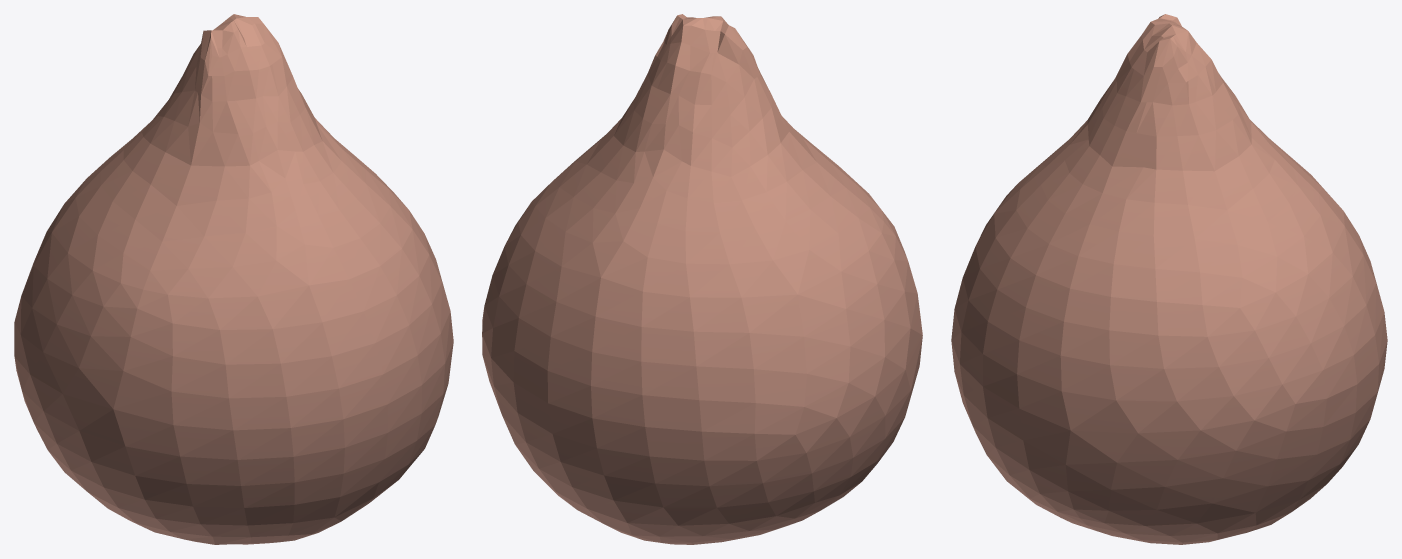
The model's file is onion.glb.
3 views of the same model, side by side, from view 1: azimuth 30°, elevation 25°; view 2: azimuth 150°, elevation 25°; view 3: azimuth 270°, elevation 25° (orthographic).
Size of the model in its own units: 0.5589 by 0.7089 by 0.5649.
